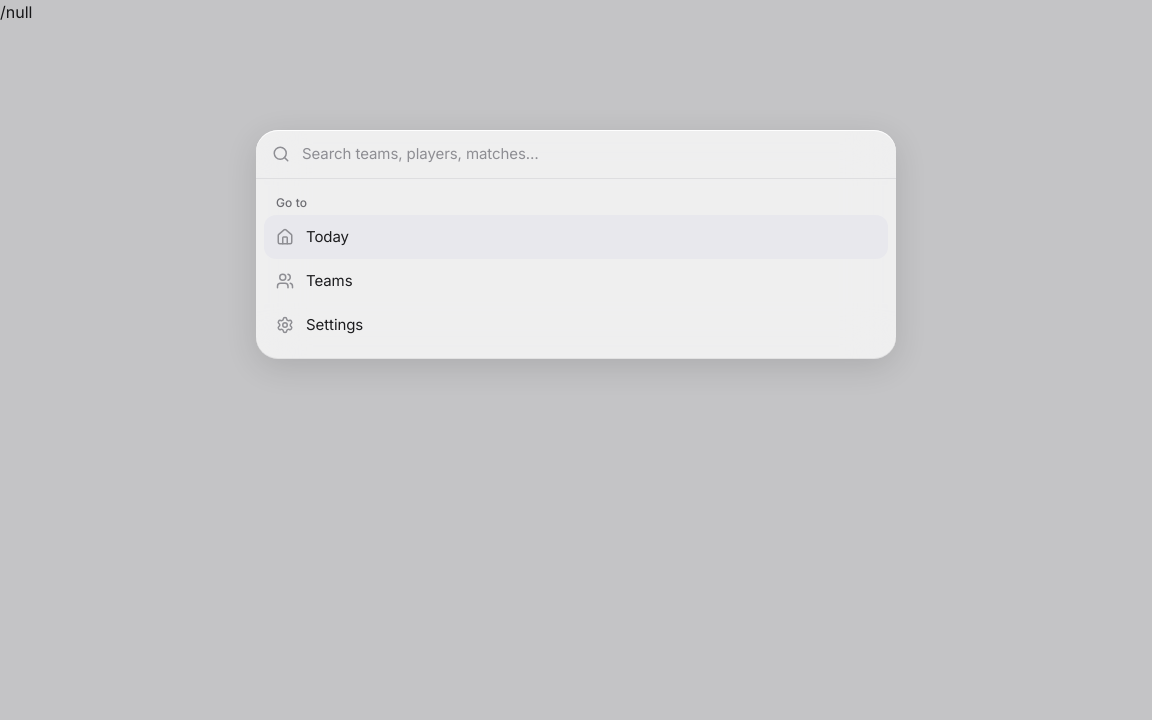
Test: SearchPalette › no results and no actions shows no empty Actions heading
Type "zzzz" into the dropdown.
click(591, 154); type("zzzz")  # box [302,130,880,178]
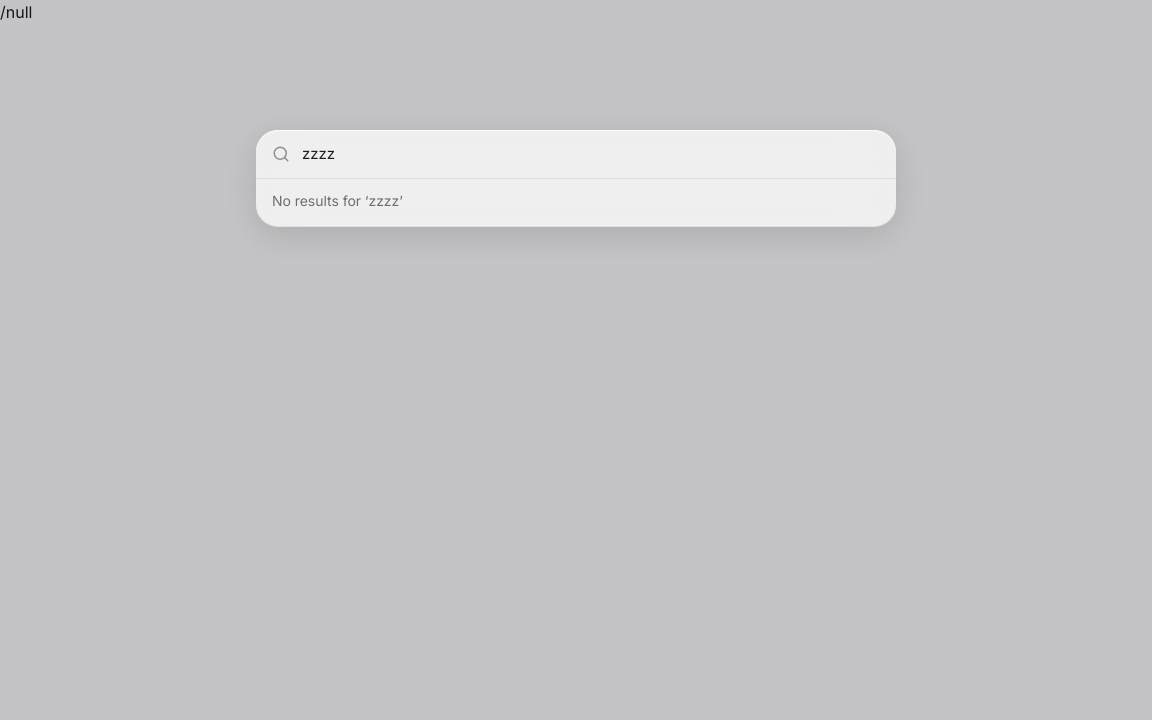
Now the text "No results for ‘zzzz’" is shown, box [272,192,403,209]
